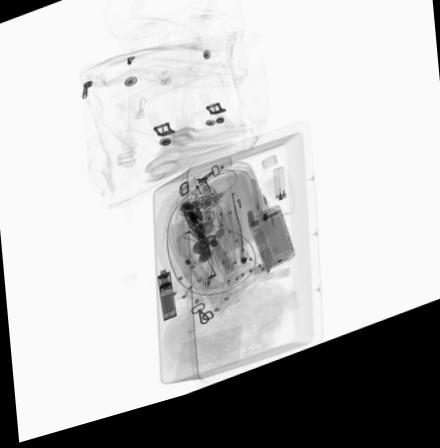Lighter: (272, 182, 286, 218)
